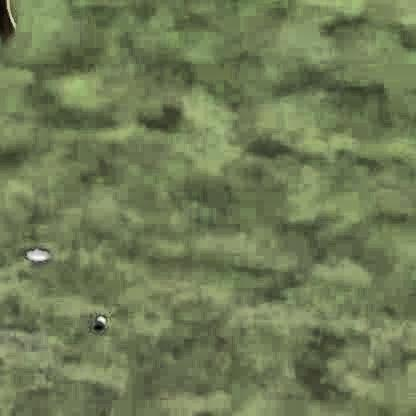golfball: (93, 313, 104, 324)
